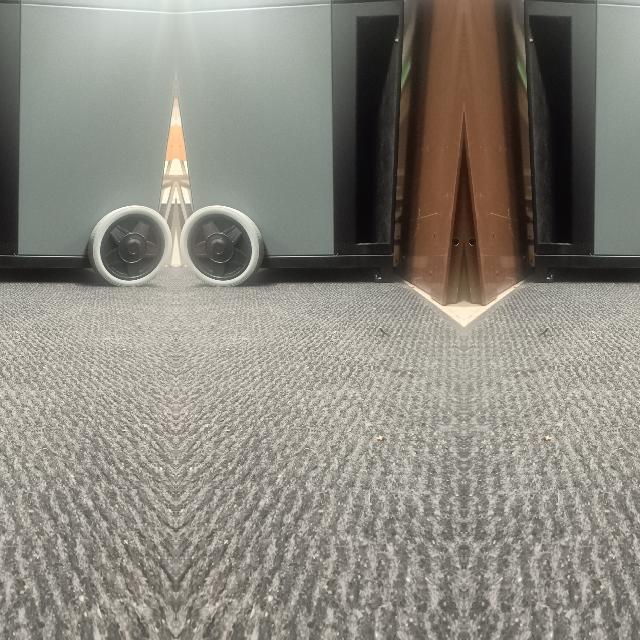obstacle: (184, 82, 390, 288), (0, 82, 166, 288), (537, 82, 640, 288)
